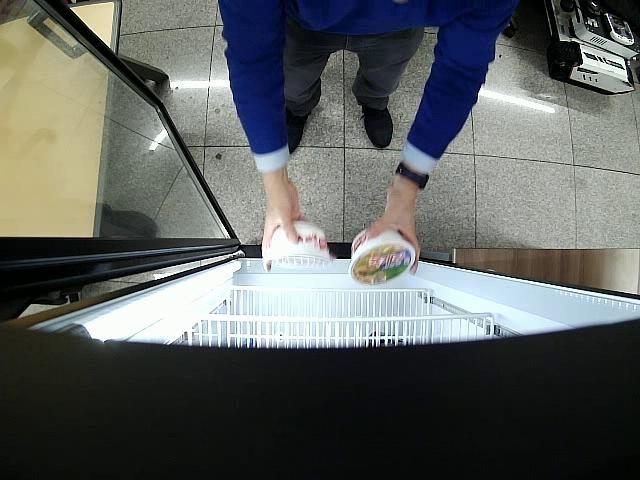09_yukGaeJang: (348, 226, 415, 285), (268, 222, 332, 260)
